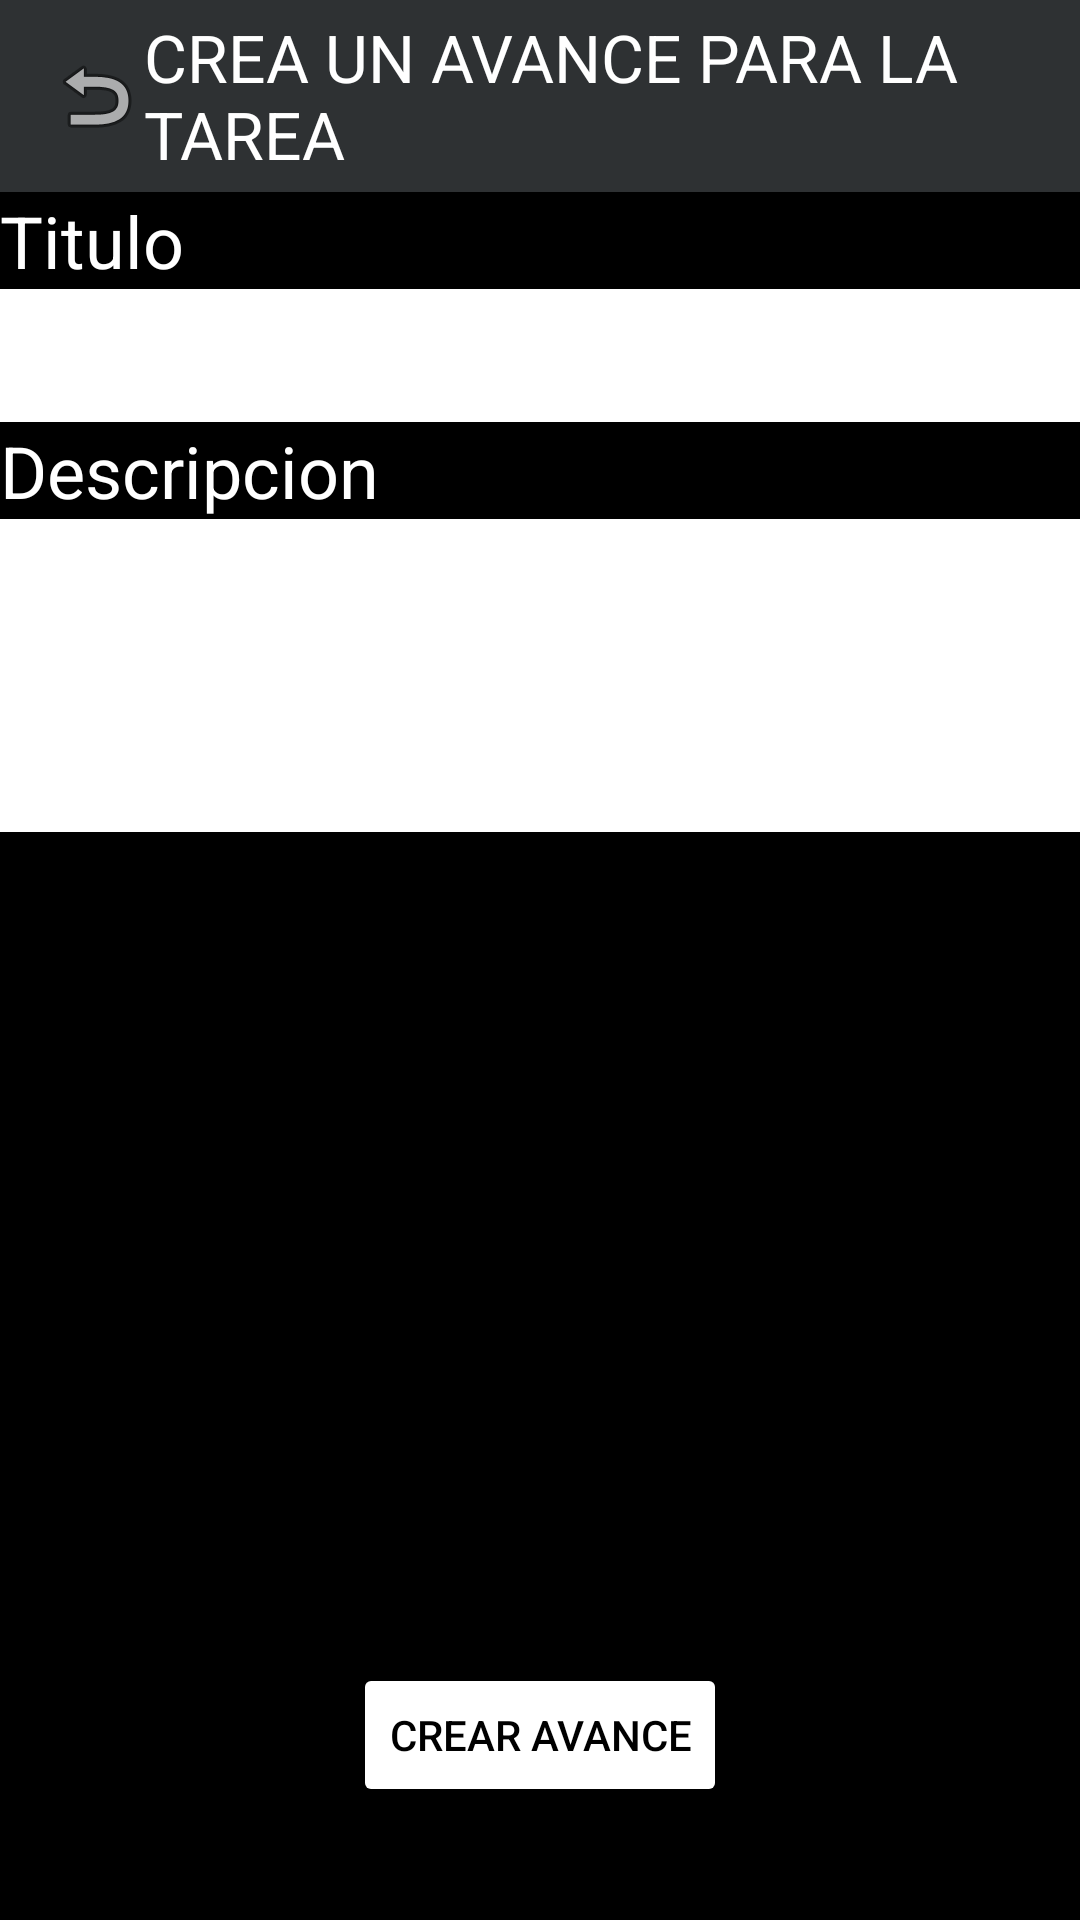

Where to tap for icons on this 1080x1920 app screen, as (x=x, y=y):
revert: (x=97, y=97)
